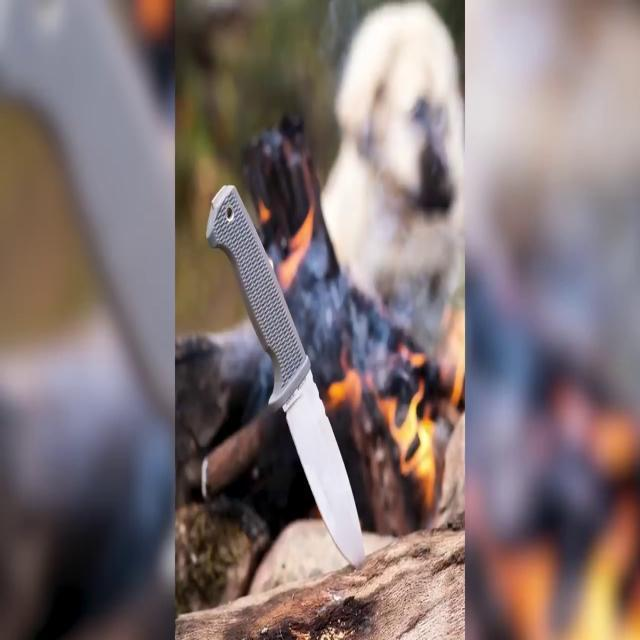Knife: (202, 174, 370, 569)
